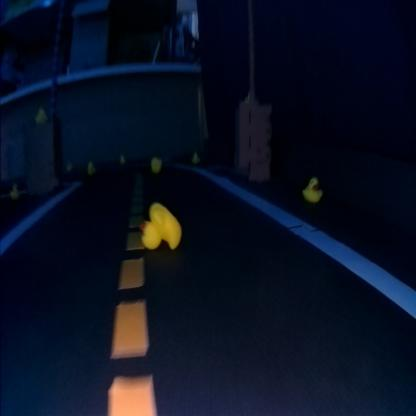Duckie: (140, 202, 182, 250), (304, 178, 323, 202), (10, 182, 20, 198), (37, 108, 48, 122), (152, 157, 164, 167), (88, 161, 96, 173), (192, 153, 200, 163), (120, 154, 126, 162), (68, 162, 74, 169)
